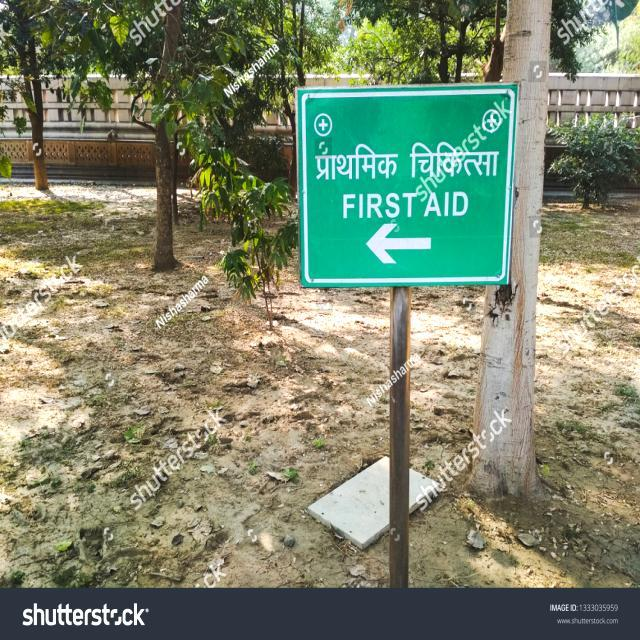Traffic sign: (286, 77, 524, 295)
